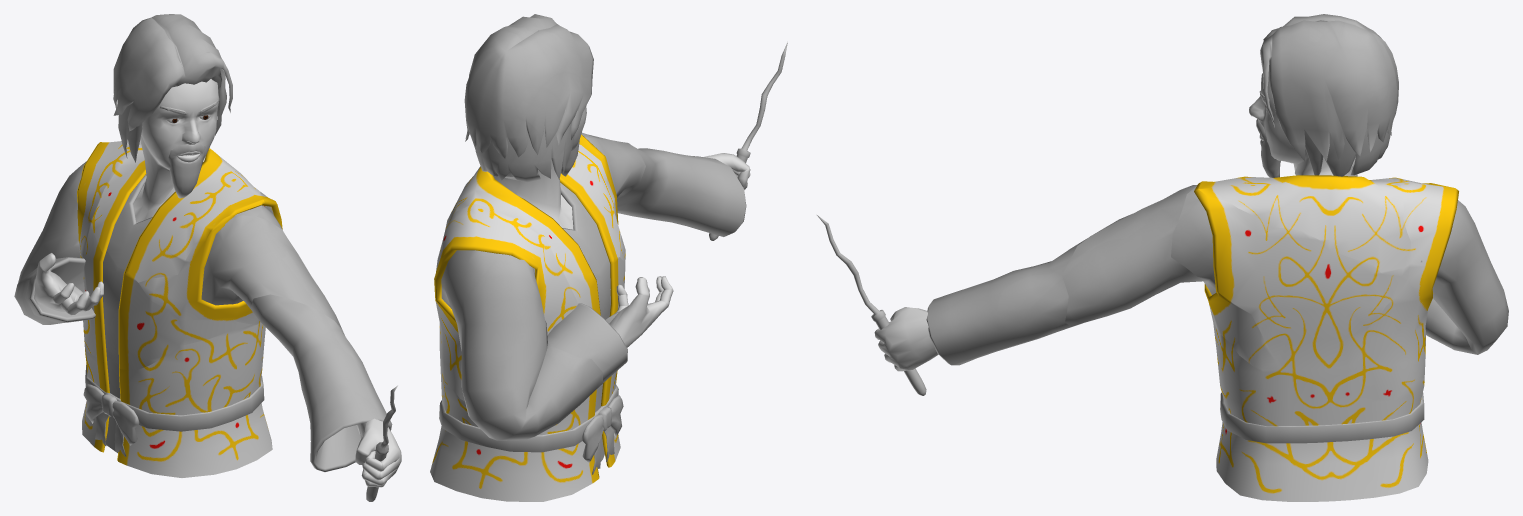
Rendered from mage_shattered.fbx.
The picture shows the model from 3 angles, left to right: view 1: azimuth 30°, elevation 25°; view 2: azimuth 150°, elevation 25°; view 3: azimuth 270°, elevation 25°; orthographic projection. The views are drawn at different scales.
Parts seen in each view (by area): view 1: mage_upperBody, mage_lowerBody, mage_leftArm, mage_upperBodyLeftCut, mage_frontBody, mage_rightFlank, mage_rightHand, mage_upperBodyBackCut; view 2: mage_upperBody, mage_rightFlank, mage_lowerBody, mage_leftArm, mage_rightHand, mage_upperBodyLeftCut, mage_frontBody; view 3: mage_upperBody, mage_lowerBody, mage_upperBodyBackCut, mage_rightFlank, mage_leftArm, mage_upperBodyLeftCut.
Part boxes in pixels (<box>): mage_upperBody: <box>90,14,264,282</box>; mage_lowerBody: <box>82,322,272,477</box>; mage_leftArm: <box>250,294,401,501</box>; mage_upperBodyLeftCut: <box>138,214,341,328</box>; mage_frontBody: <box>83,228,251,370</box>; mage_rightFlank: <box>14,141,141,357</box>; mage_rightHand: <box>26,253,103,324</box>; mage_upperBodyBackCut: <box>257,192,282,229</box>; mage_upperBody: <box>437,14,620,275</box>; mage_rightFlank: <box>434,204,602,440</box>; mage_lowerBody: <box>430,370,623,501</box>; mage_leftArm: <box>617,42,787,240</box>; mage_rightHand: <box>547,276,673,382</box>; mage_upperBodyLeftCut: <box>581,132,645,262</box>; mage_frontBody: <box>565,257,625,319</box>; mage_upperBody: <box>1187,14,1410,280</box>; mage_lowerBody: <box>1212,318,1428,501</box>; mage_upperBodyBackCut: <box>1171,189,1407,385</box>; mage_rightFlank: <box>1324,177,1508,398</box>; mage_leftArm: <box>817,215,1087,395</box>; mage_upperBodyLeftCut: <box>1062,185,1280,369</box>.
Size of the model in its own units: 81.92 by 162 by 229.
